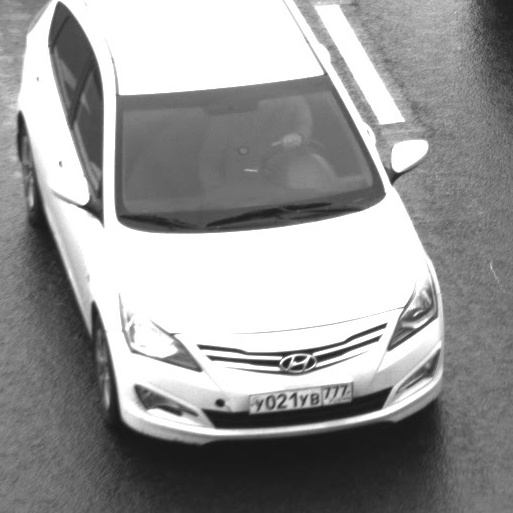plate: (237, 371, 361, 419)
